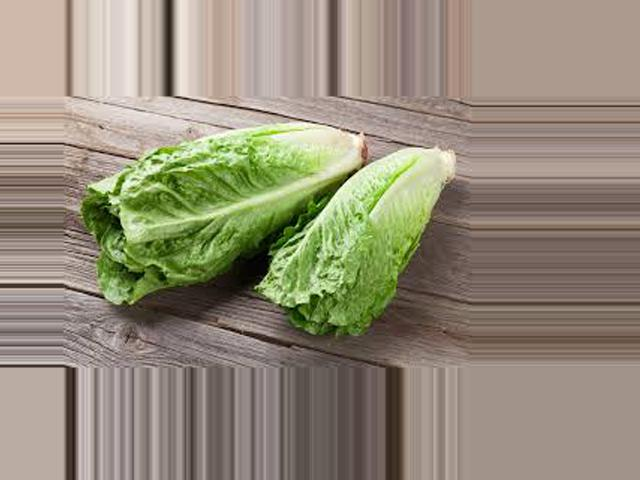lettuce: (251, 137, 468, 353)
